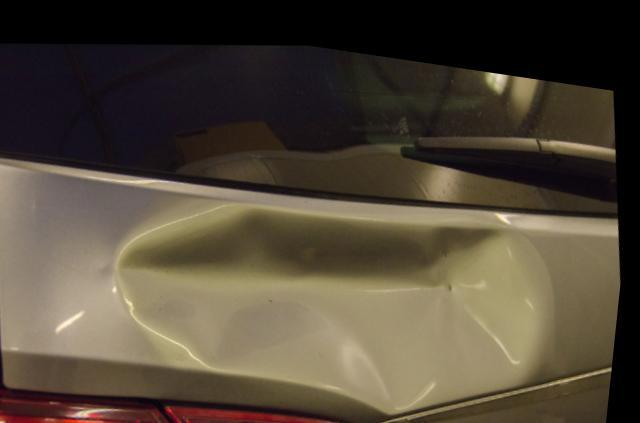dent: (123, 196, 540, 401)
